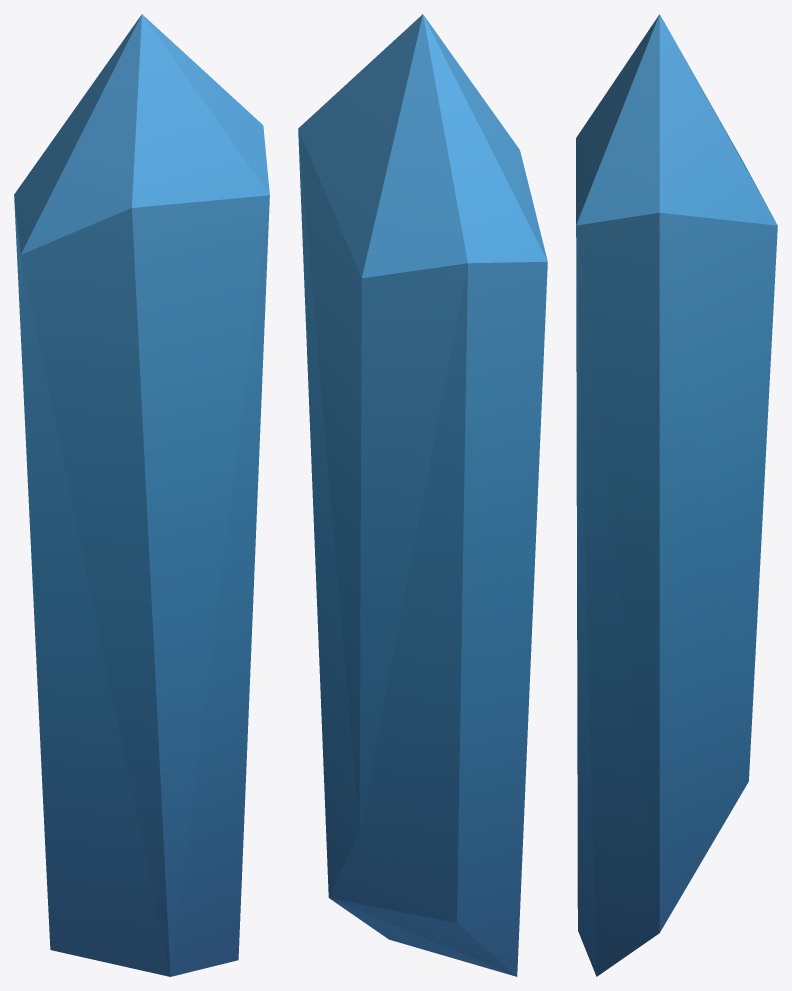
File: Crystal3.fbx
3 views of the same model, side by side, from view 1: azimuth 30°, elevation 25°; view 2: azimuth 150°, elevation 25°; view 3: azimuth 270°, elevation 25° (orthographic). The views are drawn at different scales.
Visible parts, largest first — view 1: Crystal3; view 2: Crystal3; view 3: Crystal3.
Boxes of the visible parts, left/top/right/bottom form: Crystal3: left=14, top=14, right=269, bottom=976; Crystal3: left=298, top=14, right=547, bottom=976; Crystal3: left=576, top=14, right=777, bottom=976.
Size of the model in its own units: 3.36 by 12.41 by 2.44.
